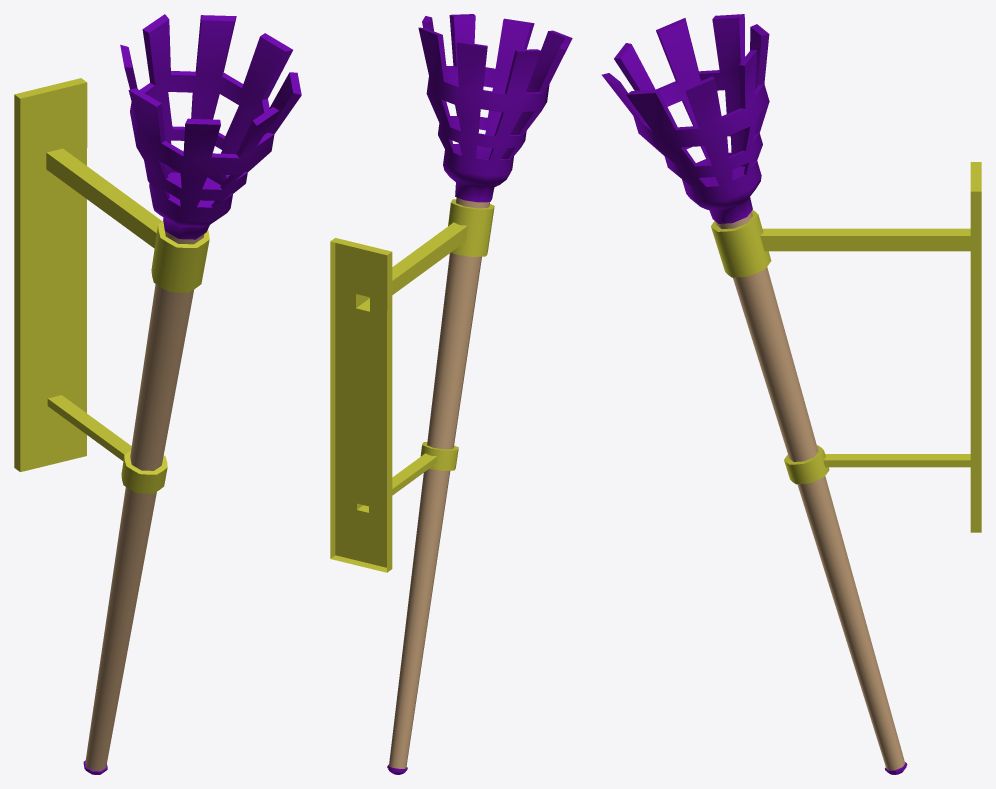
Rendered from antorcha.fbx.
The picture shows the model from 3 angles, left to right: view 1: azimuth 30°, elevation 25°; view 2: azimuth 150°, elevation 25°; view 3: azimuth 270°, elevation 25°; orthographic projection. The views are drawn at different scales.
Visible parts, largest first — view 1: antorcha; view 2: antorcha; view 3: antorcha.
Part boxes in pixels (x1=…): antorcha: x1=14, y1=14, x2=301, y2=774; antorcha: x1=330, y1=14, x2=572, y2=774; antorcha: x1=601, y1=14, x2=981, y2=774.
Size of the model in its own units: 29.56 by 139 by 64.61.
